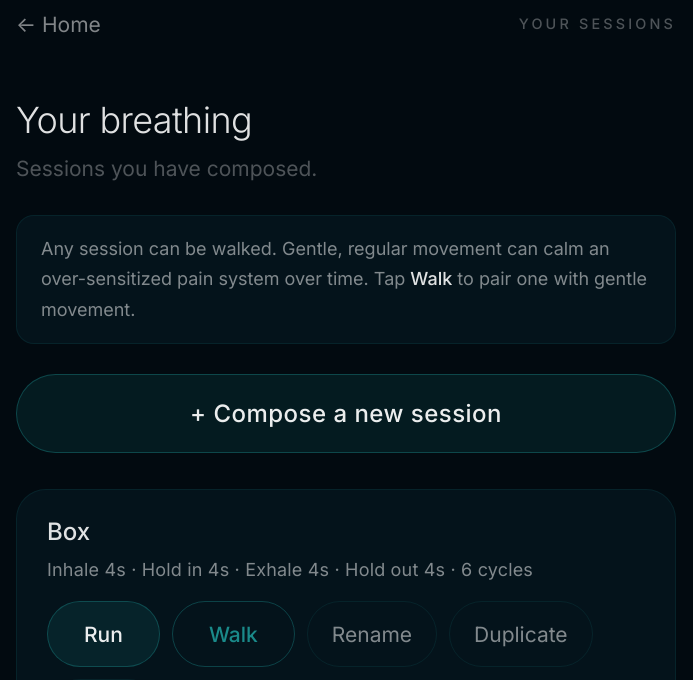
Test case: CustomLibraryScreen — rename / duplicate › duplicates a session, adding a copy to the library
Click the button with aria-label "duplicate box" at (521, 634), box [449,601,593,667]
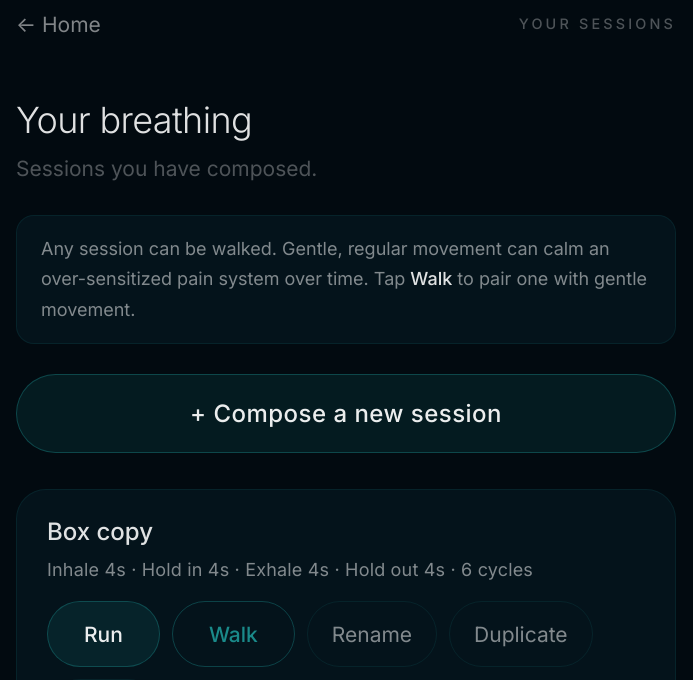
Check: the text "Box copy" is shown, box [47,517,153,546]
